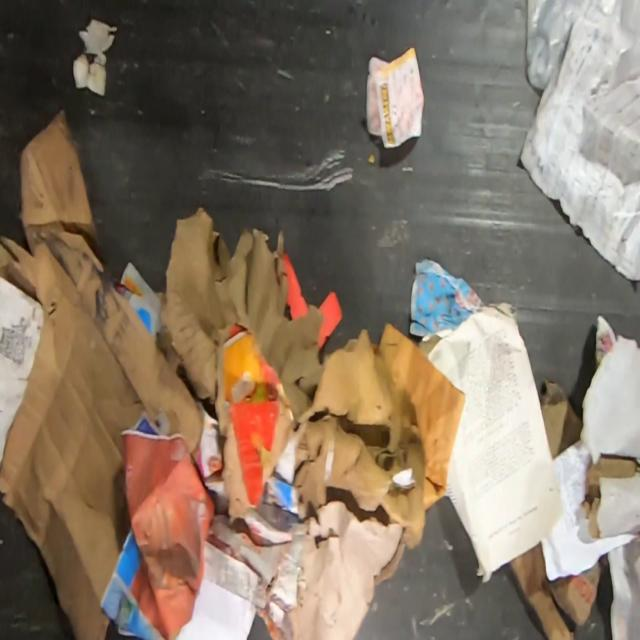cardboard: (155, 207, 468, 639), (0, 105, 202, 640), (508, 537, 602, 640), (576, 452, 640, 545), (540, 383, 584, 461)
soft_plastic: (525, 0, 640, 89)
